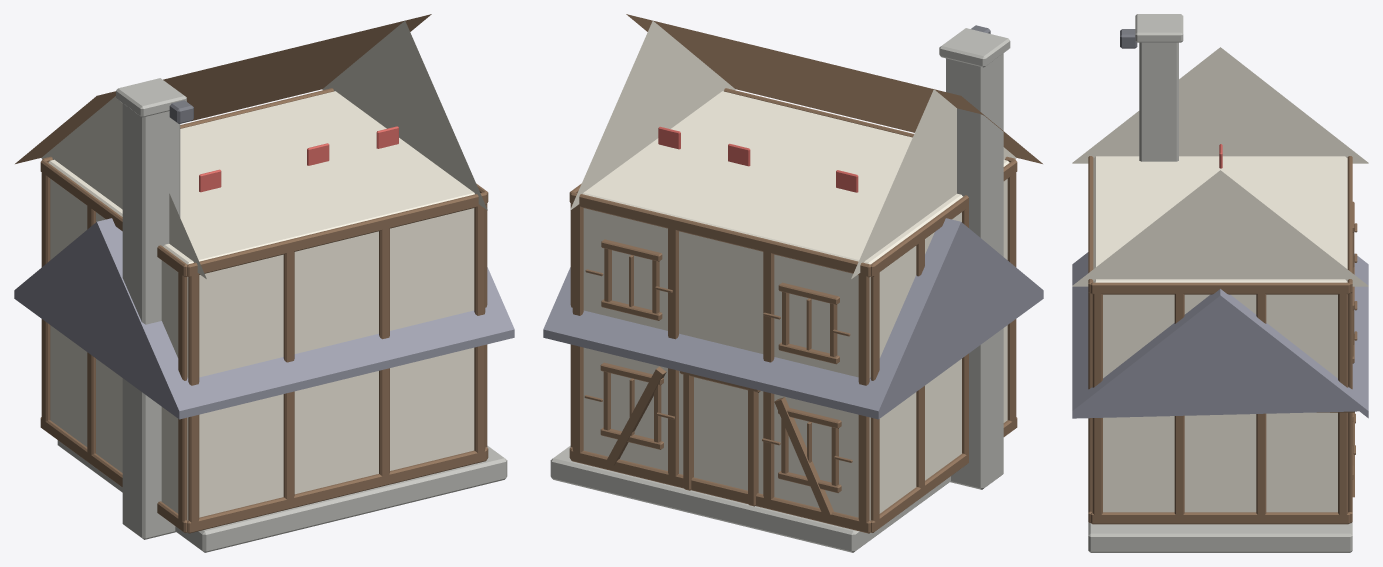
The model's file is town_timber_house_medium.glb.
3 renders of one model, left to right at view 1: azimuth 30°, elevation 25°; view 2: azimuth 150°, elevation 25°; view 3: azimuth 270°, elevation 25°, orthographic. The views are drawn at different scales.
Visible parts, largest first — view 1: world; view 2: world; view 3: world.
Part boxes in pixels (<box>): world: <box>14,14,514,552</box>; world: <box>543,14,1043,552</box>; world: <box>1072,14,1368,552</box>.
Size of the model in its own units: 1.63 by 2 by 1.37.
